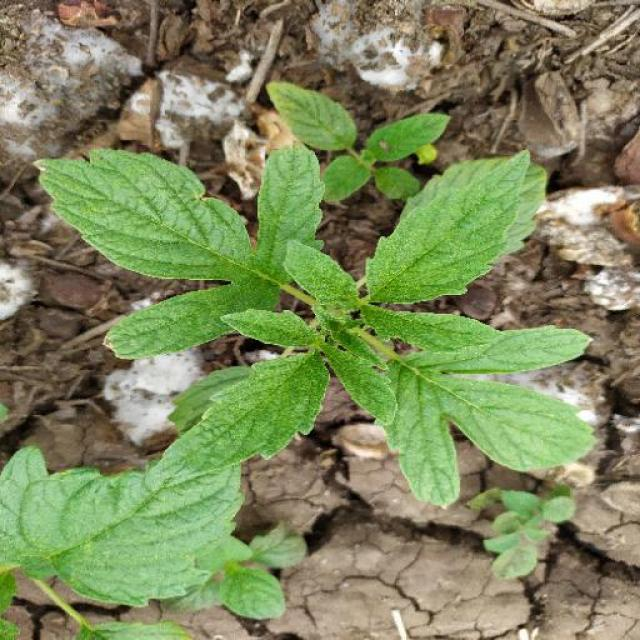crop: (35, 132, 597, 502)
